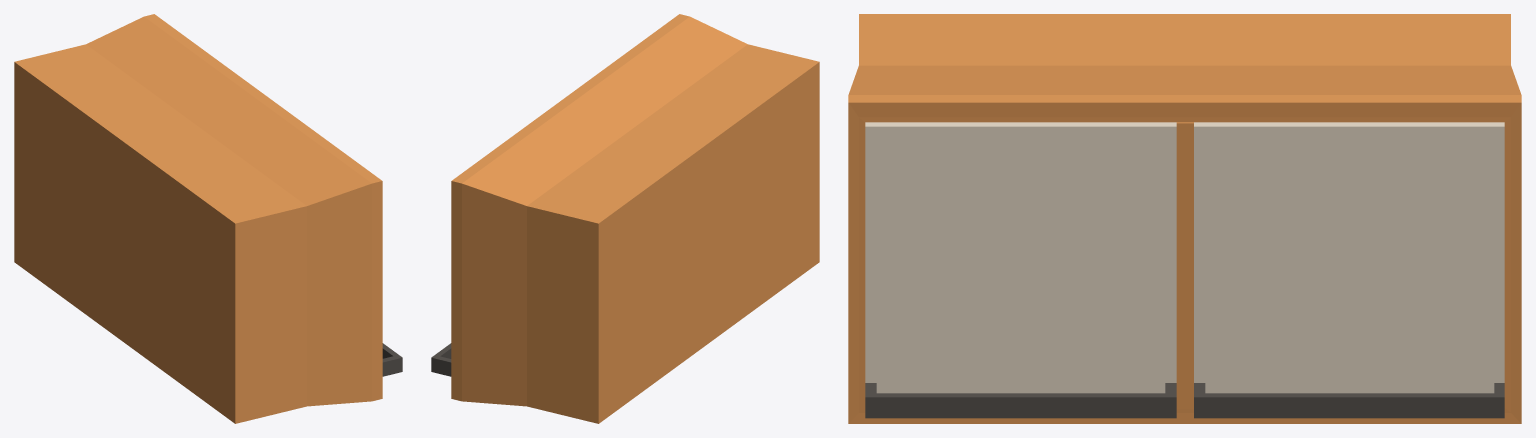
Rendered from cupboard.fbx.
3 renders of one model, left to right at view 1: azimuth 30°, elevation 25°; view 2: azimuth 150°, elevation 25°; view 3: azimuth 270°, elevation 25°, orthographic. The views are drawn at different scales.
Visible parts, largest first — view 1: Cube; view 2: Cube; view 3: Cube.
Boxes of the visible parts, <box> form: Cube: <box>14,14,402,423</box>; Cube: <box>431,14,819,423</box>; Cube: <box>848,14,1521,423</box>.
Bounding box in the file's own units: 177 × 413 × 218.
